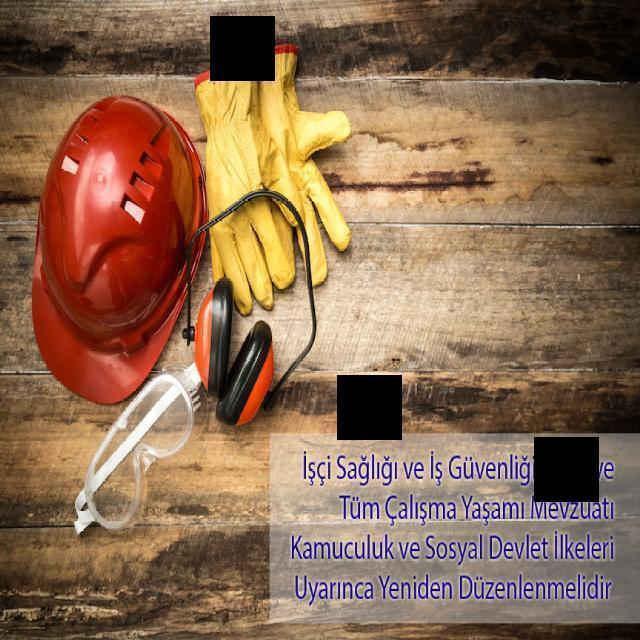red helmet: (24, 85, 201, 414)
